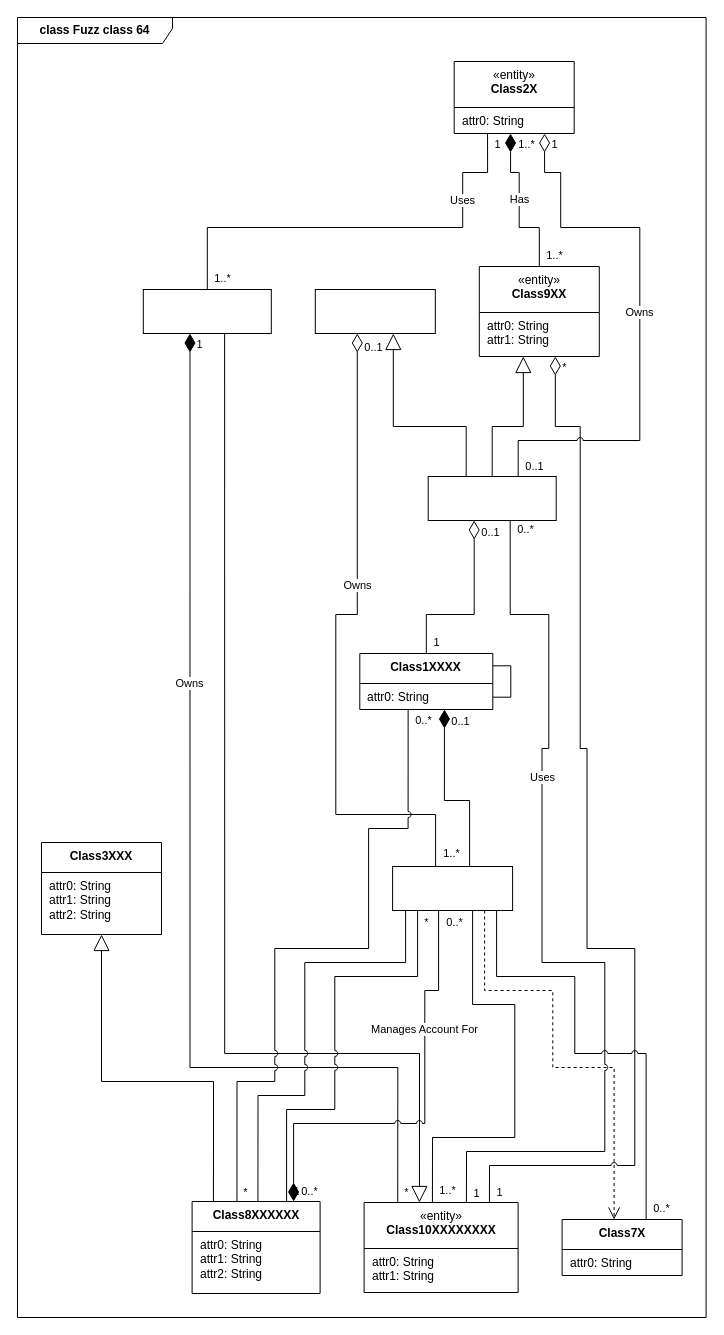
Image size: 724x1335. Some labels were removed from this diagram. The centre of each missing label's shape, as x and y in pixels:
"Class0XXXXXX" belongs at pixel 206 311.
"Class4XXXXXX" belongs at pixel 491 498.
"Class5XX" belongs at pixel 452 888.
"Class6XXXX" belongs at pixel 374 311.
